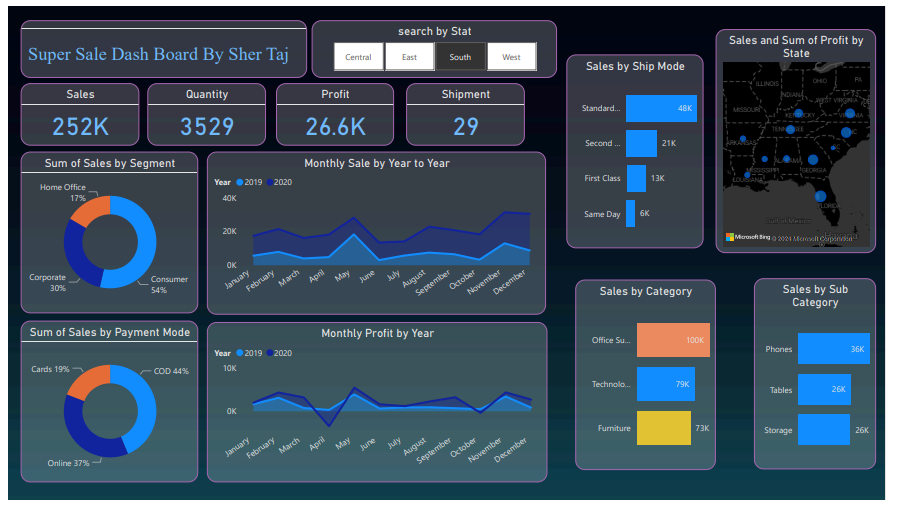

This screenshot's page, from the dashboard's own definition file:
{"tool":"powerbi","page":{"name":"Page 1","canvas":[1280,720],"ordinal":0},"visuals":[{"type":"clusteredBarChart","title":"Sales by Category","fields":{"Category":["SuperStore_Sales_Dataset.Category"],"Y":["Sum(SuperStore_Sales_Dataset.Sales)"]},"box":[828,398.9,205.2,278.4],"z":0},{"type":"clusteredBarChart","title":"Sales by Sub Category","fields":{"Y":["Sum(SuperStore_Sales_Dataset.Sales)"],"Category":["SuperStore_Sales_Dataset.Sub-Category"]},"box":[1088.5,396.9,178.6,279.2],"z":1000},{"type":"clusteredBarChart","title":"Sales by  Ship Mode","fields":{"Y":["Sum(SuperStore_Sales_Dataset.Sales)"],"Category":["SuperStore_Sales_Dataset.Ship Mode"]},"box":[815.1,70.3,199.5,282.7],"z":2000},{"type":"stackedAreaChart","title":" Monthly Sale by Year to Year","fields":{"Y":["Sum(SuperStore_Sales_Dataset.Sales)"],"Category":["SuperStore_Sales_Dataset.Order Date.Variation.Date Hierarchy.Month","SuperStore_Sales_Dataset.Order Date.Variation.Date Hierarchy.Day"],"Series":["SuperStore_Sales_Dataset.Order Date.Variation.Date Hierarchy.Year"]},"box":[289.8,212.4,495.1,237.6],"z":3000},{"type":"stackedAreaChart","title":" Monthly Profit by Year ","fields":{"Y":["Sum(SuperStore_Sales_Dataset.Profit)"],"Category":["SuperStore_Sales_Dataset.Order Date.Variation.Date Hierarchy.Month","SuperStore_Sales_Dataset.Order Date.Variation.Date Hierarchy.Day"],"Series":["SuperStore_Sales_Dataset.Order Date.Variation.Date Hierarchy.Year"]},"box":[289.8,460.9,496.9,234],"z":4000},{"type":"map","title":"Sales and Sum of Profit by State","fields":{"Category":["SuperStore_Sales_Dataset.State"],"Size":["Sum(SuperStore_Sales_Dataset.Sales)"]},"box":[1033.2,33,233.9,327.2],"z":5000},{"type":"donutChart","fields":{"Category":["SuperStore_Sales_Dataset.Segment"],"Y":["Sum(SuperStore_Sales_Dataset.Sales)"]},"box":[18,212.4,259.2,235.8],"z":6000},{"type":"donutChart","fields":{"Y":["Sum(SuperStore_Sales_Dataset.Sales)"],"Category":["SuperStore_Sales_Dataset.Payment Mode"]},"box":[18,459.1,259.2,235.8],"z":7000},{"type":"slicer","title":"search by Stat","fields":{"Values":["SuperStore_Sales_Dataset.Region"]},"box":[442.9,19.8,358.3,84.6],"z":8000},{"type":"textbox","box":[18,19.8,417.7,84.6],"z":9000},{"type":"card","title":"Sales","fields":{"Values":["Sum(SuperStore_Sales_Dataset.Sales)"]},"box":[18,111.6,172.8,91.8],"z":10000},{"type":"card","title":"Quantity","fields":{"Values":["Sum(SuperStore_Sales_Dataset.Quantity)"]},"box":[203.4,111.6,172.8,91.8],"z":11000},{"type":"card","title":"Profit","fields":{"Values":["Sum(SuperStore_Sales_Dataset.Profit)"]},"box":[390.7,111.6,172.8,91.8],"z":12000},{"type":"card","title":"Shipment","fields":{"Values":["Avg(SuperStore_Sales_Dataset.Profit)"]},"box":[581.5,111.6,172.8,91.8],"z":13000}]}

Visuals, with their boxes in screenshot pixels (x1, y1, x2, y2), scaled from the page's 1280x720 canvas onto the 897x505 screenshot:
"Sales by Category" clusteredBarChart: bbox(580, 280, 724, 475)
"Sales by Sub Category" clusteredBarChart: bbox(763, 278, 888, 474)
"Sales by  Ship Mode" clusteredBarChart: bbox(571, 49, 711, 248)
" Monthly Sale by Year to Year" stackedAreaChart: bbox(203, 149, 550, 316)
" Monthly Profit by Year " stackedAreaChart: bbox(203, 323, 551, 487)
"Sales and Sum of Profit by State" map: bbox(724, 23, 888, 253)
donutChart - SuperStore_Sales_Dataset.Segment x Sum(SuperStore_Sales_Dataset.Sales): bbox(13, 149, 194, 314)
donutChart - Sum(SuperStore_Sales_Dataset.Sales) x SuperStore_Sales_Dataset.Payment Mode: bbox(13, 322, 194, 487)
"search by Stat" slicer: bbox(310, 14, 561, 73)
textbox: bbox(13, 14, 305, 73)
"Sales" card: bbox(13, 78, 134, 143)
"Quantity" card: bbox(143, 78, 264, 143)
"Profit" card: bbox(274, 78, 395, 143)
"Shipment" card: bbox(408, 78, 529, 143)
